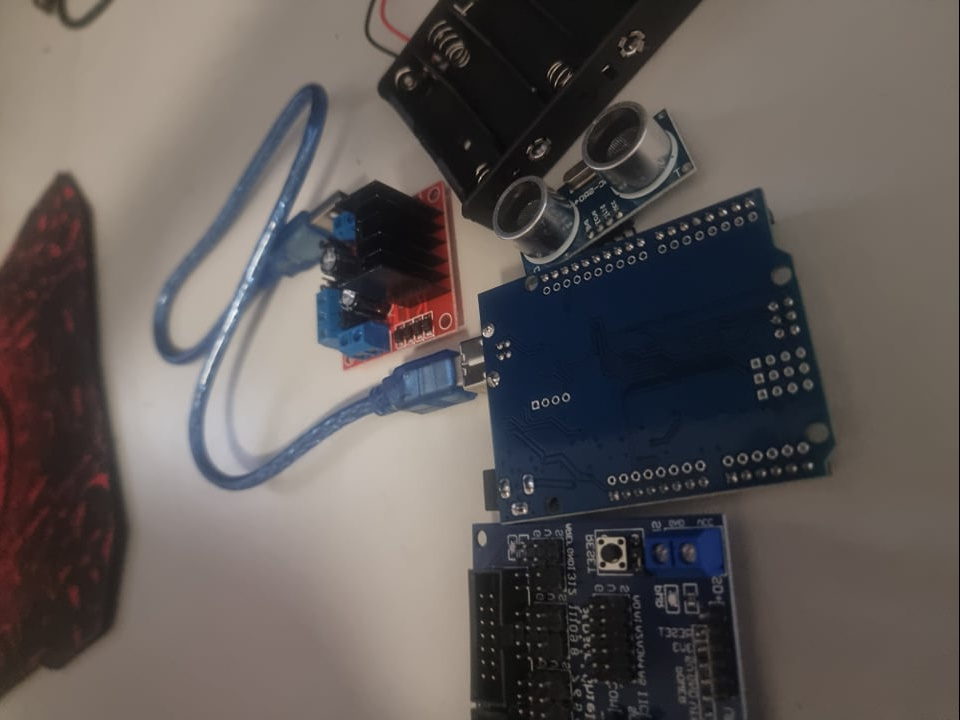5V EXPANSION: (465, 512, 774, 720)
BATTERY BOX: (380, 3, 631, 208)
MOTOR: (306, 178, 462, 373)
SENSOR: (496, 96, 690, 278)
